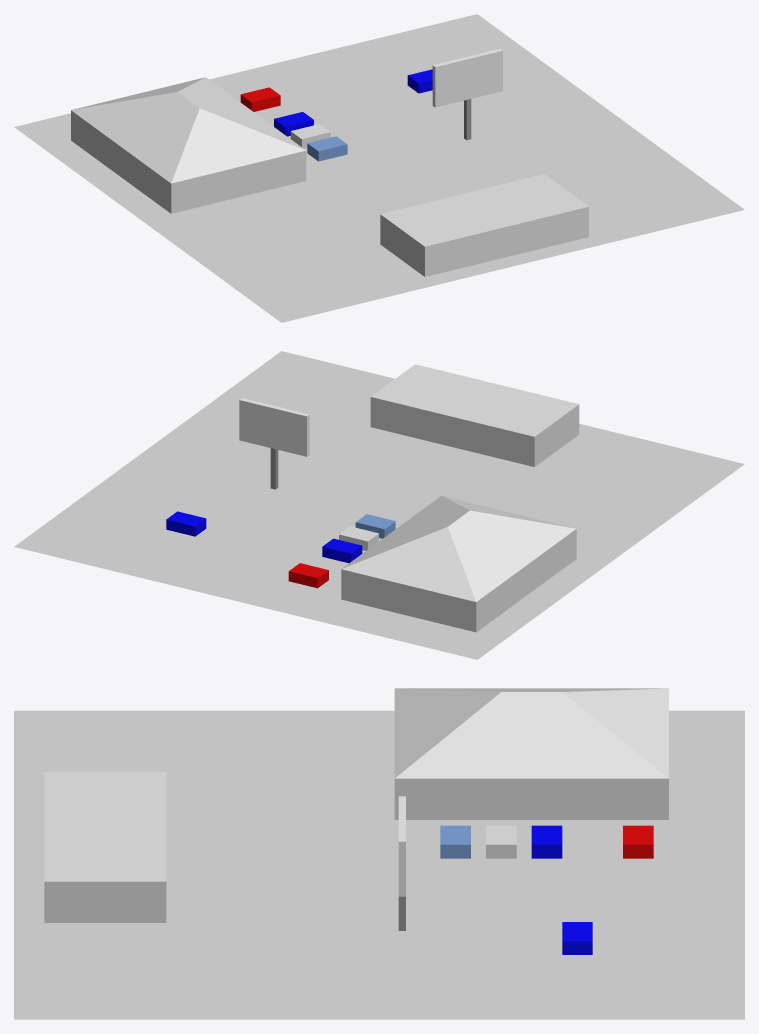
Rendered from com06.glb.
3 renders of one model, top to bottom at view 1: azimuth 30°, elevation 25°; view 2: azimuth 150°, elevation 25°; view 3: azimuth 270°, elevation 25°, orthographic. The views are drawn at different scales.
Visible parts, largest first — view 1: Plane, Cone, Cube, Cube.002, Cube.005, Cube.007, Cube.004, Cube.006; view 2: Plane, Cone, Cube, Cube.002, Cube.008, Cube.007, Cube.006, Cube.005, Cube.004; view 3: Plane, Cone, Cube, Cube.006, Cube.007, Cube.005, Cube.004, Cube.008, Cube.002.
Boxes of the visible parts, x1,y1,x2,y2 form: Plane: (14,14,744,322); Cone: (71,77,306,213); Cube: (380,174,588,276); Cube.002: (432,49,502,107); Cube.005: (307,136,347,161); Cube.007: (240,87,280,111); Cube.004: (290,124,330,148); Cube.006: (274,112,313,136); Plane: (14,351,744,659); Cone: (341,496,576,632); Cube: (370,364,579,466); Cube.002: (239,398,309,456); Cube.008: (166,511,206,536); Cube.007: (288,563,328,588); Cube.006: (322,538,362,563); Cube.005: (355,514,395,538); Cube.004: (339,526,378,550); Plane: (14,710,744,1019); Cone: (394,688,668,819); Cube: (44,772,166,922); Cube.006: (531,825,562,858); Cube.007: (623,825,653,858); Cube.005: (440,825,470,858); Cube.004: (486,825,516,858); Cube.008: (562,922,592,954); Cube.002: (398,796,405,896).
Size of the model in its own units: 48 by 8 by 48.
